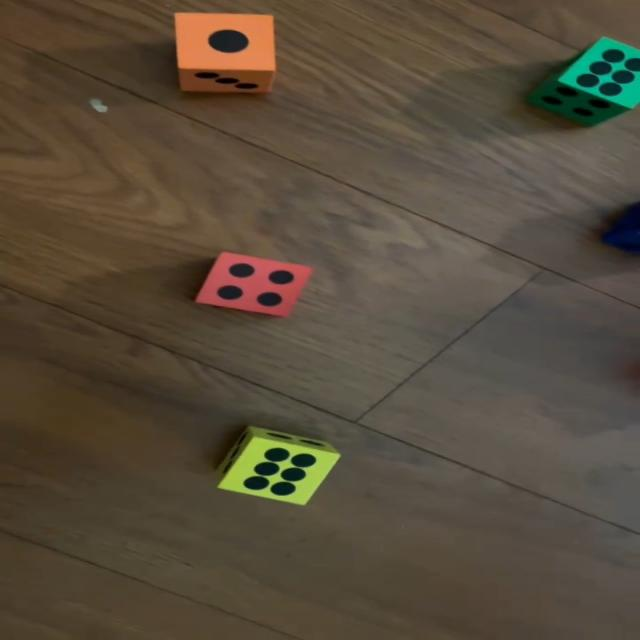blue_block: (606, 208, 640, 254)
red_block: (196, 252, 315, 319)
